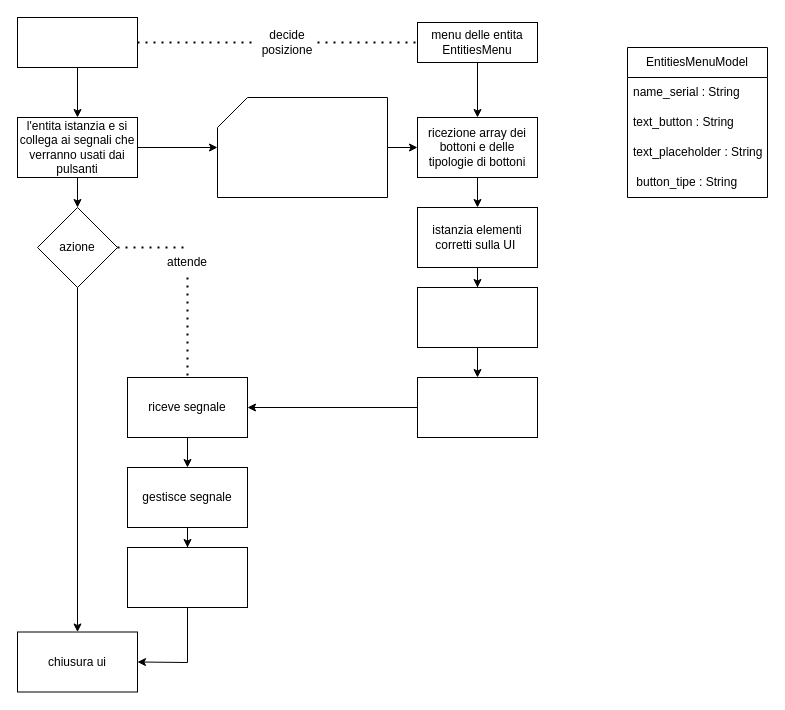
Some shapes in this 785 by 710 pixel diagram are drawn without their labels. Each missing label, with the centre of its shape:
"apertura menu entita" belongs at point (77, 42).
"Array [EntitiesMenuModel]" belongs at point (302, 147).
"esegue" belongs at point (187, 577).
"invia segnale" belongs at point (477, 407).
"usa segnali prestabiliti" belongs at point (477, 317).
